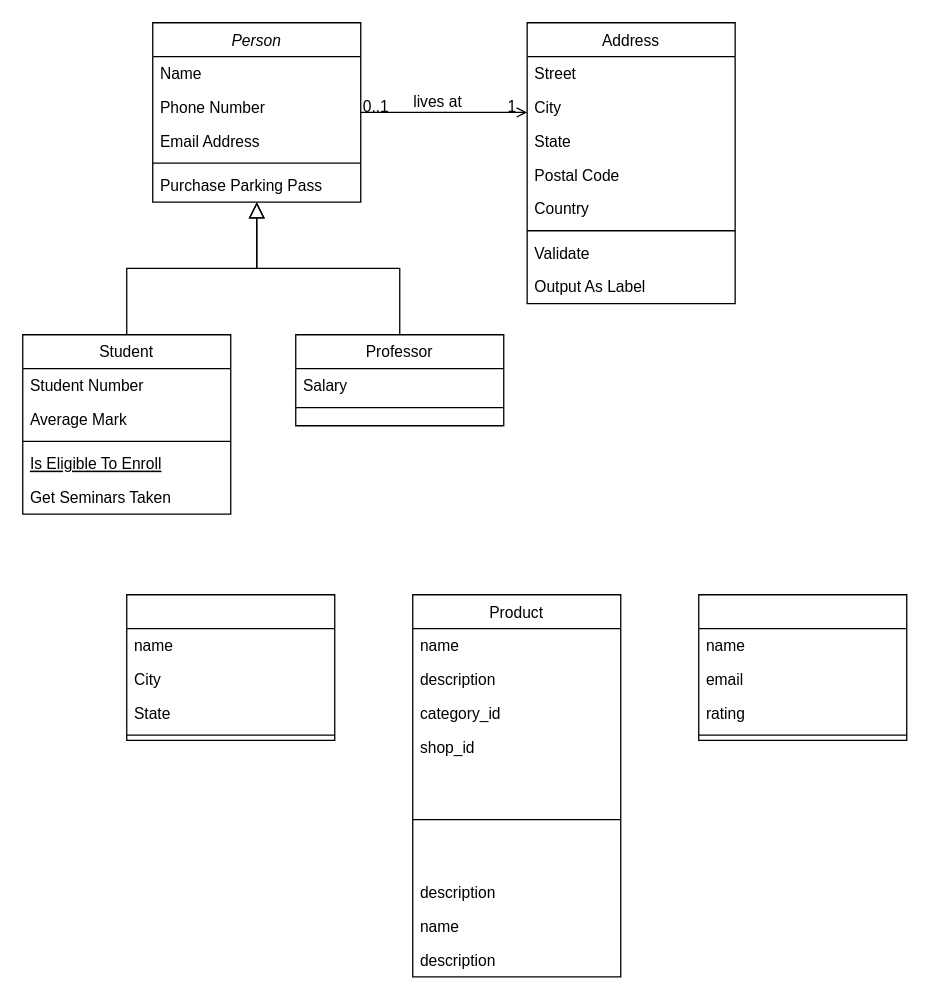
Image size: 929x1004. Some labels were removed from this diagram. The shapes that lost their labels are listed below. From the top down, each one's box as (x1, y1, x2, y2) in pixels, then its label:
(125, 593, 335, 740): Category
(697, 593, 907, 740): Shop
